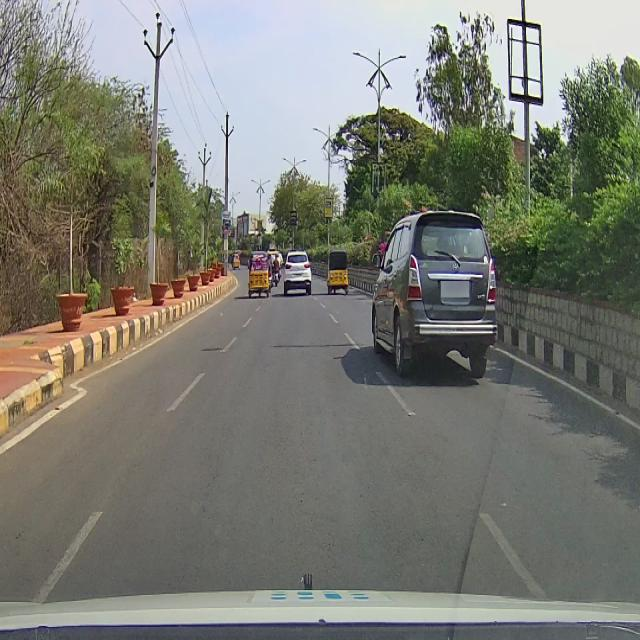auto ahead at: (246, 246, 276, 305)
car ahead at: (364, 195, 502, 387), (280, 246, 314, 301)
electric pole ahead at: (132, 6, 168, 298)
plant ahead at: (38, 160, 93, 338), (101, 226, 141, 326), (147, 212, 177, 311)
